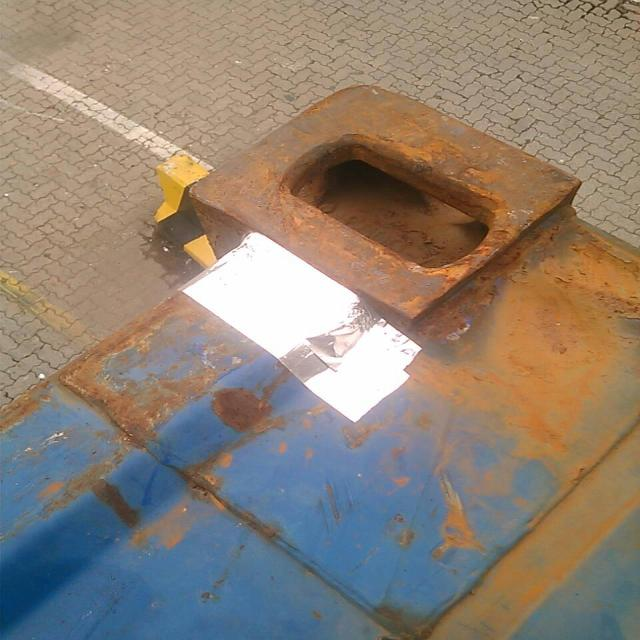rust: (181, 83, 590, 327), (1, 290, 300, 544)
